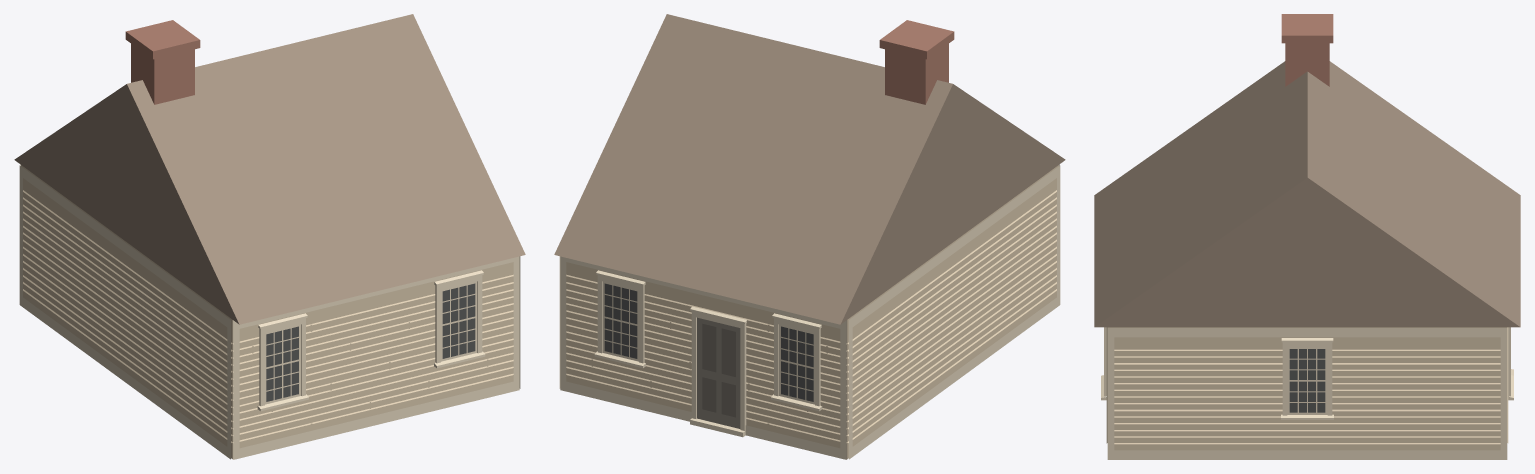
The model's file is recon_1835_north_d4_090__inferred_1835.glb.
3 renders of one model, left to right at view 1: azimuth 30°, elevation 25°; view 2: azimuth 150°, elevation 25°; view 3: azimuth 270°, elevation 25°, orthographic. The views are drawn at different scales.
Visible parts, largest first — view 1: recon_1835_north_d4_090__inferred_1835; view 2: recon_1835_north_d4_090__inferred_1835; view 3: recon_1835_north_d4_090__inferred_1835.
Part boxes in pixels (left/top/right/bottom): recon_1835_north_d4_090__inferred_1835: left=14, top=14, right=525, bottom=459; recon_1835_north_d4_090__inferred_1835: left=554, top=14, right=1065, bottom=459; recon_1835_north_d4_090__inferred_1835: left=1094, top=14, right=1520, bottom=459.
Bounding box in the file's own units: 6.1 × 6.69 × 8.1.
